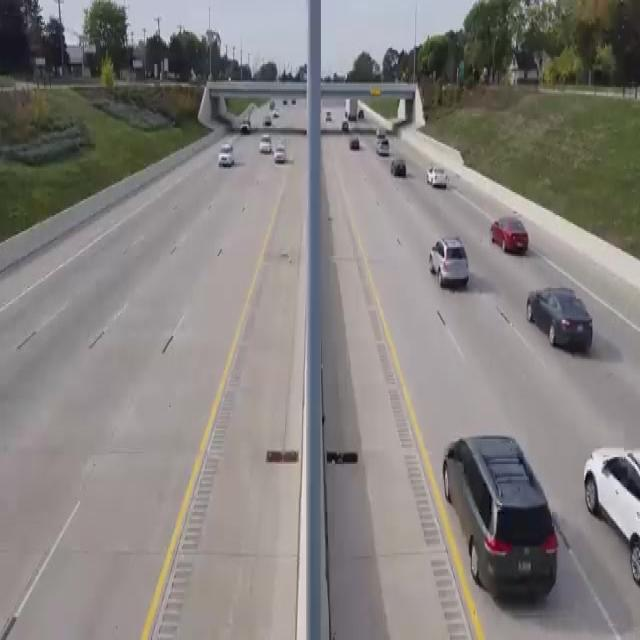car: (435, 430, 565, 600), (580, 441, 640, 581), (525, 287, 601, 370), (424, 235, 481, 301), (486, 200, 529, 266), (427, 164, 456, 194), (220, 134, 240, 176), (391, 155, 411, 187), (257, 134, 276, 161), (373, 140, 396, 162), (346, 135, 365, 159), (371, 122, 395, 141), (277, 141, 290, 172), (318, 106, 337, 125), (240, 117, 254, 138), (264, 112, 274, 131)
truck: (343, 95, 363, 126)
